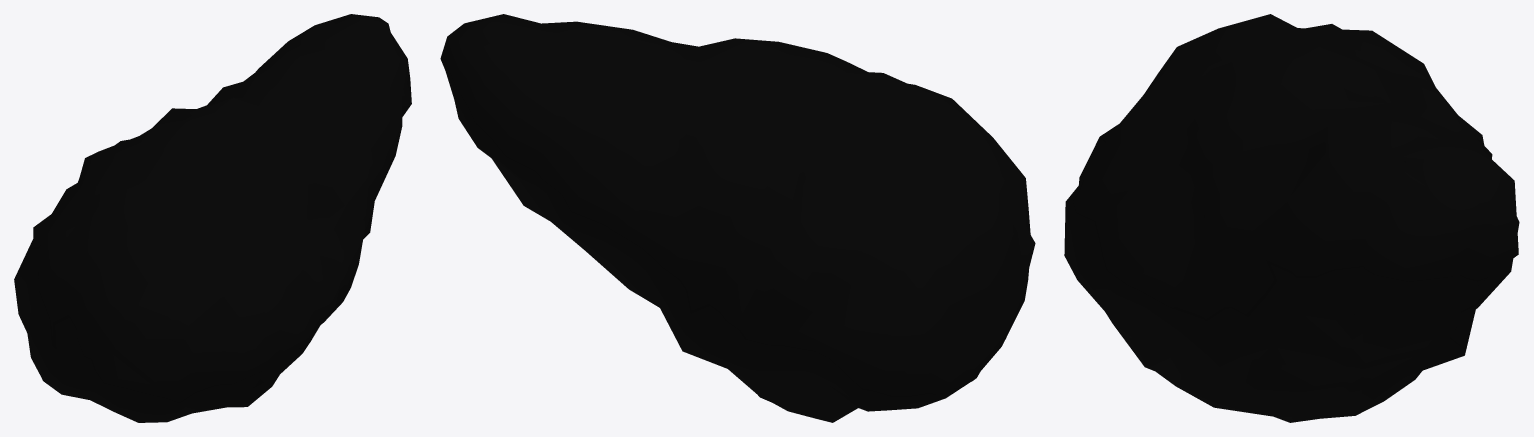
3 renders of one model, left to right at view 1: azimuth 30°, elevation 25°; view 2: azimuth 150°, elevation 25°; view 3: azimuth 270°, elevation 25°, orthographic. The views are drawn at different scales.
Parts seen in each view (by area): view 1: Icosphere.007; view 2: Icosphere.007; view 3: Icosphere.007.
Part boxes in pixels (box(x1,y1,x2,y2)): Icosphere.007: box(14, 14, 411, 422); Icosphere.007: box(440, 14, 1035, 422); Icosphere.007: box(1064, 14, 1519, 422).
Bounding box in the file's own units: 2.02 × 1.37 × 1.39.
Materials: 1 (1 with a texture image).
